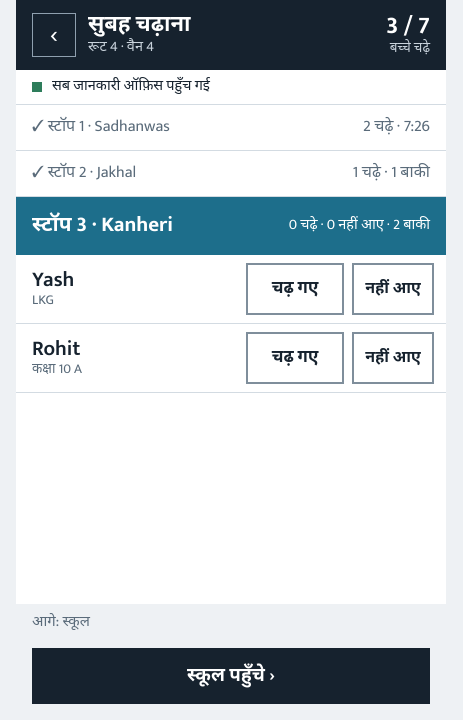
Test: Morning pickup (/trip/pickup) › a grey line opens its stop again
Step 1. Click the button "✓ स्टॉप 2 · Jakhal 1 चढ़े · 1 बाकी" → (84,173), box top-left (16, 150), bottom-right (446, 196)
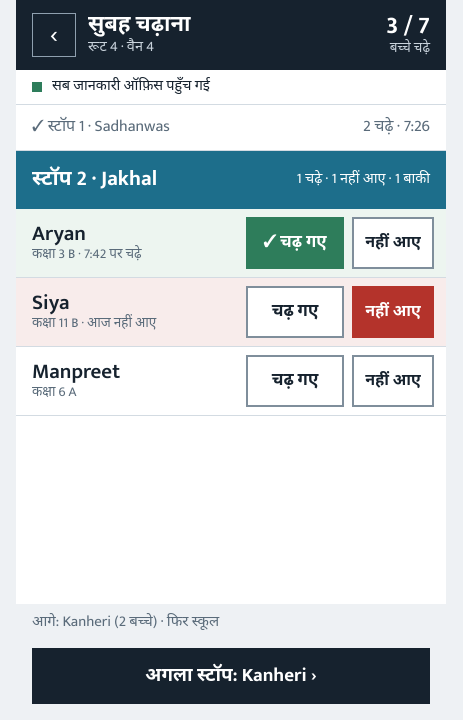
Check: the heading "स्टॉप 2 · Jakhal" is shown, box top-left (32, 165), bottom-right (157, 194)
